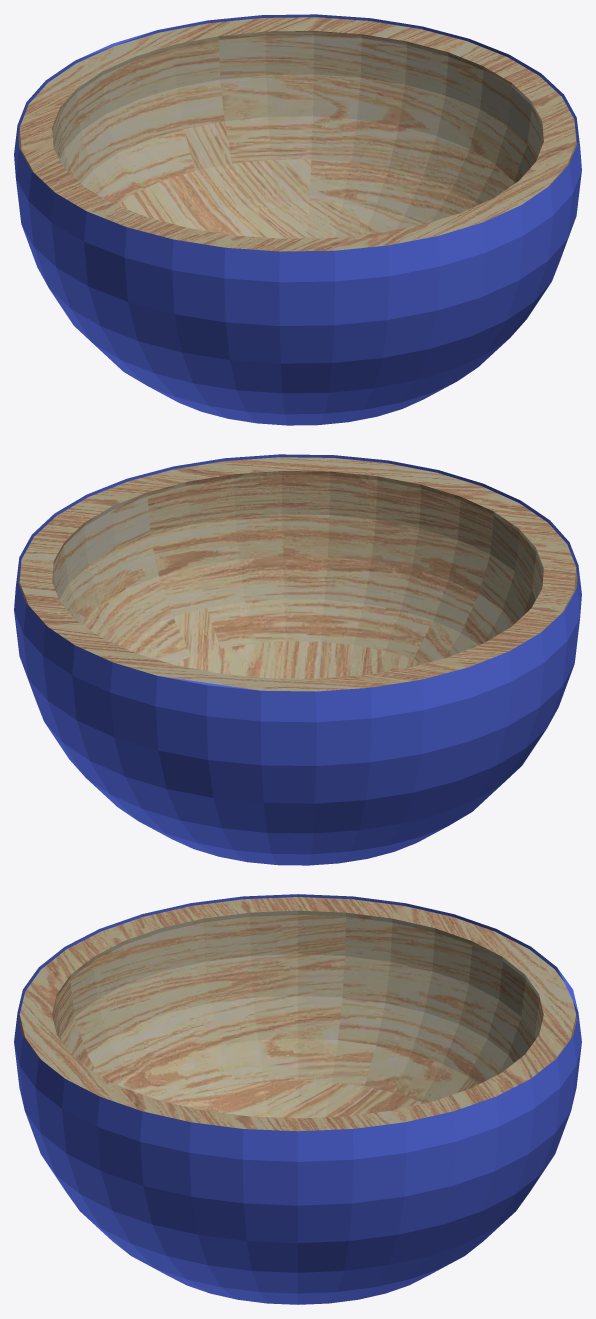
File: bowl_try10.glb
3 views of the same model, one above another, from view 1: azimuth 30°, elevation 25°; view 2: azimuth 150°, elevation 25°; view 3: azimuth 270°, elevation 25° (orthographic).
Visible parts, largest first — view 1: Sphere, Sphere.001; view 2: Sphere, Sphere.001; view 3: Sphere, Sphere.001.
Boxes of the visible parts, bbox=[...] form: Sphere: bbox=[18, 17, 577, 251]; Sphere.001: bbox=[14, 14, 581, 425]; Sphere: bbox=[18, 457, 577, 691]; Sphere.001: bbox=[14, 454, 581, 865]; Sphere: bbox=[19, 897, 576, 1131]; Sphere.001: bbox=[14, 894, 581, 1304].
Size of the model in its own units: 2.42 by 1.07 by 2.42.
2 materials, 1 textured.
